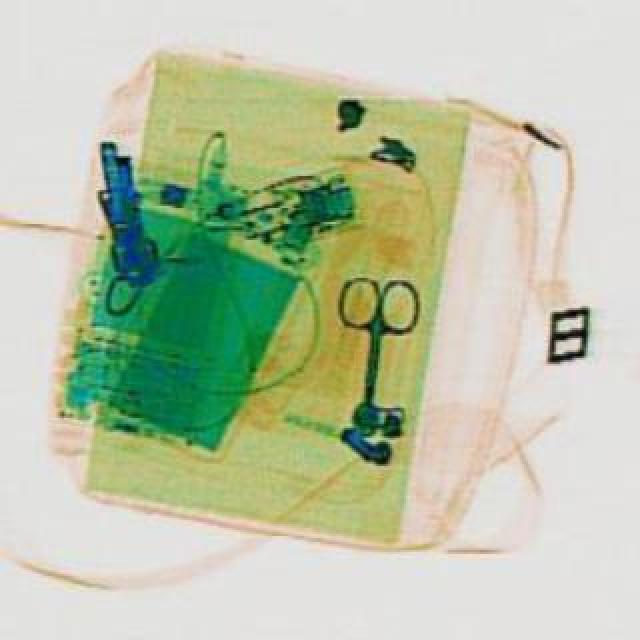pliers: (316, 268, 420, 412)
